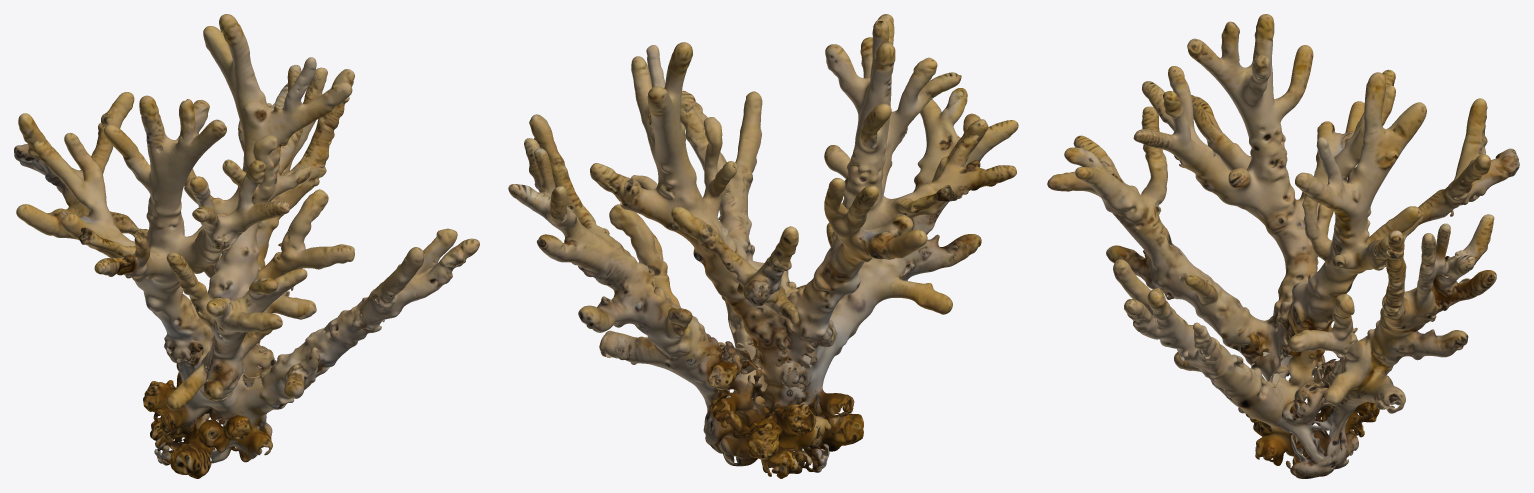
Rendered from coral_branch_a.glb.
The picture shows the model from 3 angles, left to right: view 1: azimuth 30°, elevation 25°; view 2: azimuth 150°, elevation 25°; view 3: azimuth 270°, elevation 25°; orthographic projection. The views are drawn at different scales.
Parts seen in each view (by area): view 1: tripo_node_7d8799fa-3d9b-45f8-854b-cc6826886864; view 2: tripo_node_7d8799fa-3d9b-45f8-854b-cc6826886864; view 3: tripo_node_7d8799fa-3d9b-45f8-854b-cc6826886864.
Boxes of the visible parts, x1,y1,x2,y2 form: tripo_node_7d8799fa-3d9b-45f8-854b-cc6826886864: (14,14,479,478); tripo_node_7d8799fa-3d9b-45f8-854b-cc6826886864: (508,14,1018,478); tripo_node_7d8799fa-3d9b-45f8-854b-cc6826886864: (1047,14,1519,478).
Size of the model in its own units: 0.8808 by 0.9531 by 1.
Materials: 1 (1 with a texture image).
